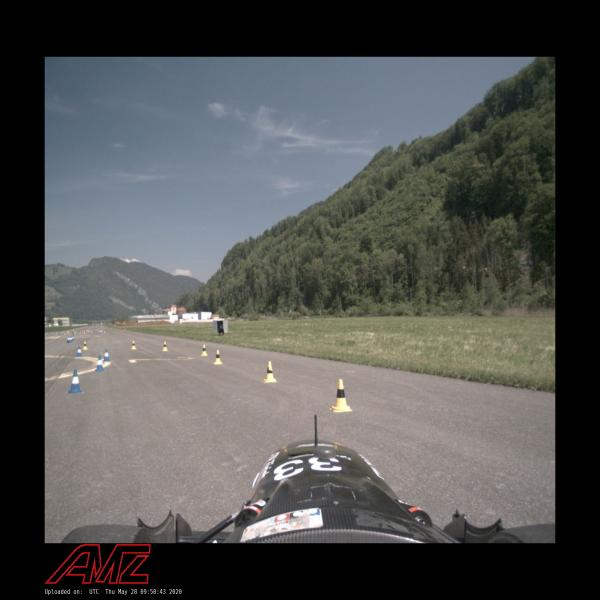blue_cone: (66, 369, 84, 394), (94, 355, 105, 371), (103, 349, 110, 362), (76, 346, 82, 357), (67, 336, 70, 342), (70, 337, 72, 342), (71, 336, 73, 341), (73, 336, 75, 340)
yellow_cone: (329, 379, 352, 413), (263, 361, 277, 383), (214, 350, 223, 364), (200, 344, 208, 356), (162, 341, 168, 351), (131, 340, 137, 350), (83, 341, 88, 350)
